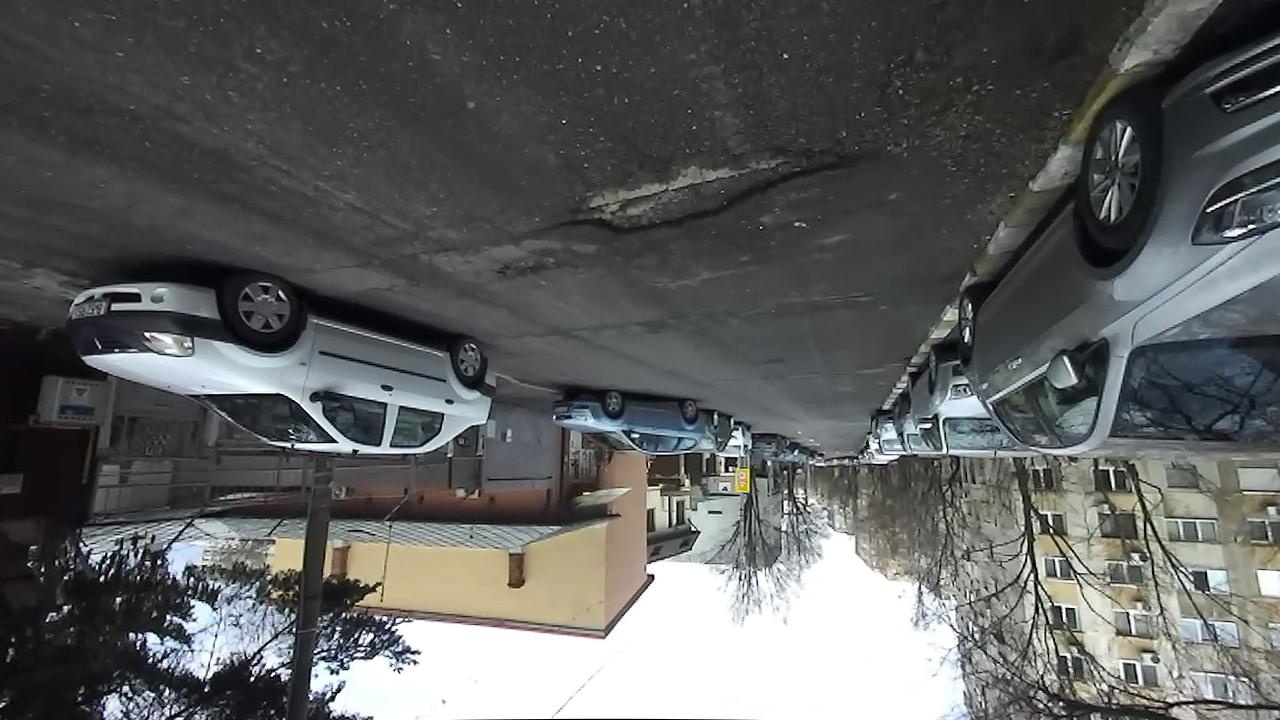pothole: (525, 145, 868, 240), (486, 253, 571, 285)
